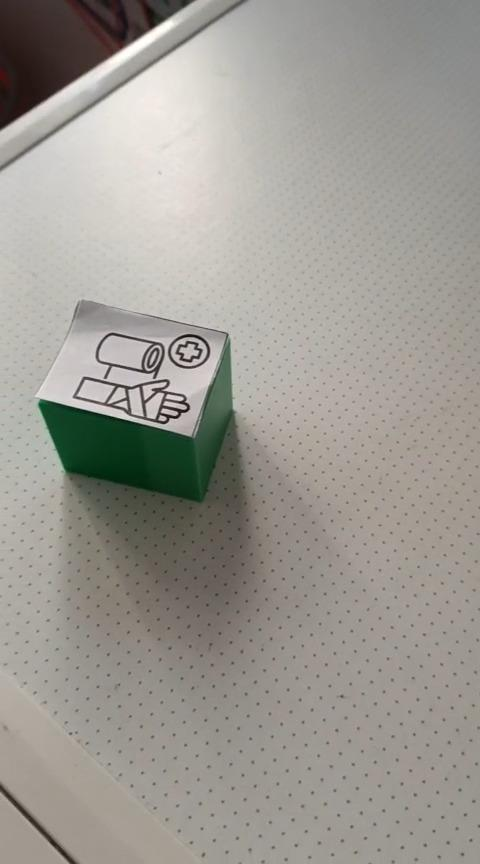Bandages: (33, 298, 233, 502)
